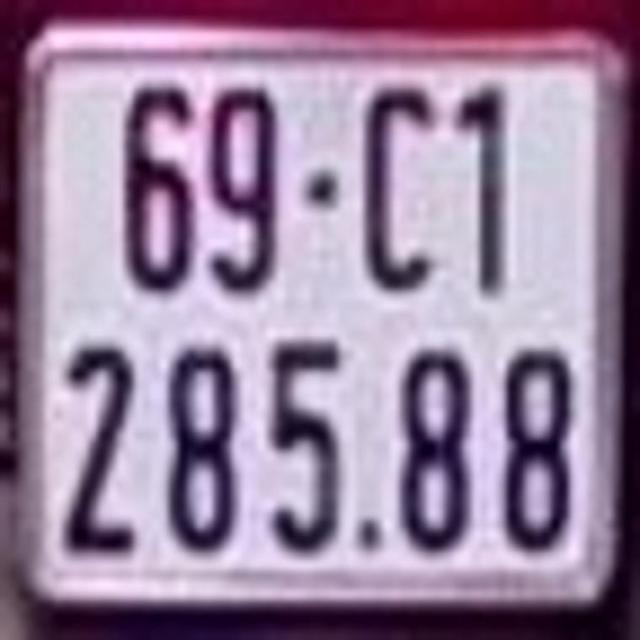1: (453, 80, 515, 296)
2: (61, 342, 138, 555)
5: (268, 334, 344, 554)
6: (119, 78, 197, 293)
8: (165, 343, 238, 554), (399, 344, 471, 553), (503, 347, 572, 552)
9: (207, 83, 279, 296)
C: (360, 83, 440, 292)
